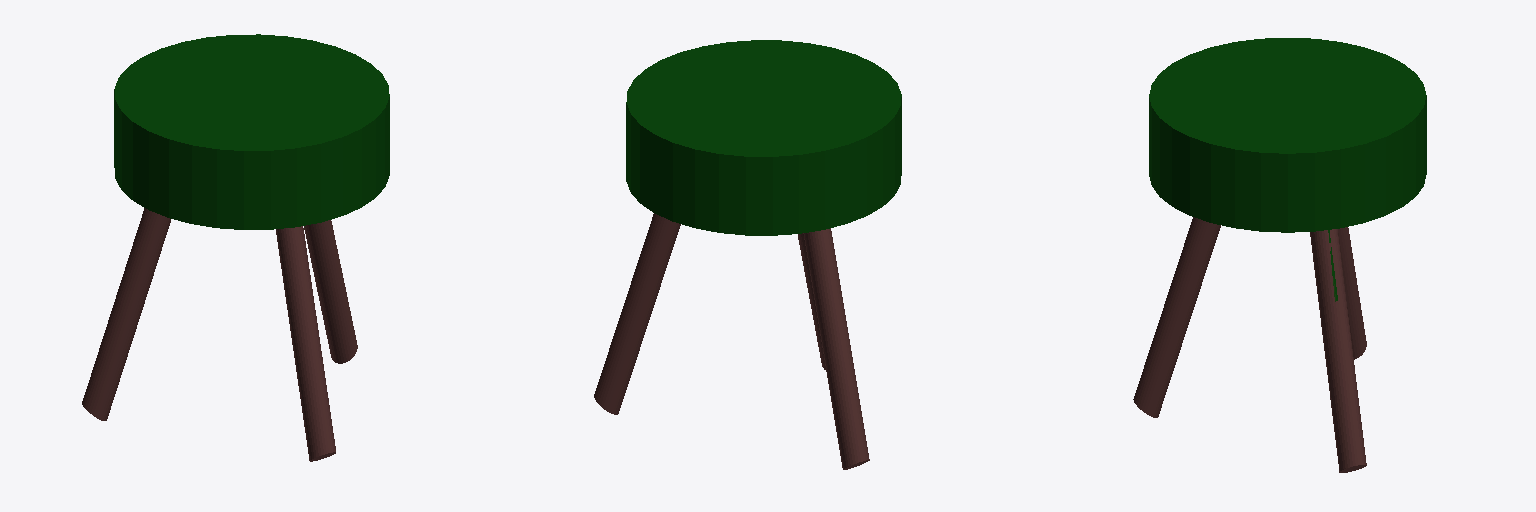
3 views of the same model, side by side, from view 1: azimuth 30°, elevation 25°; view 2: azimuth 150°, elevation 25°; view 3: azimuth 270°, elevation 25° (orthographic).
Parts seen in each view (by area): view 1: Cylinder.001; view 2: Cylinder.001; view 3: Cylinder.001.
Boxes of the visible parts, x1=… form: Cylinder.001: x1=82, y1=34, x2=389, y2=461; Cylinder.001: x1=594, y1=40, x2=901, y2=469; Cylinder.001: x1=1133, y1=38, x2=1426, y2=472.
Size of the model in its own units: 5.55 by 6.26 by 5.19.
Materials: 1 (1 with a texture image).